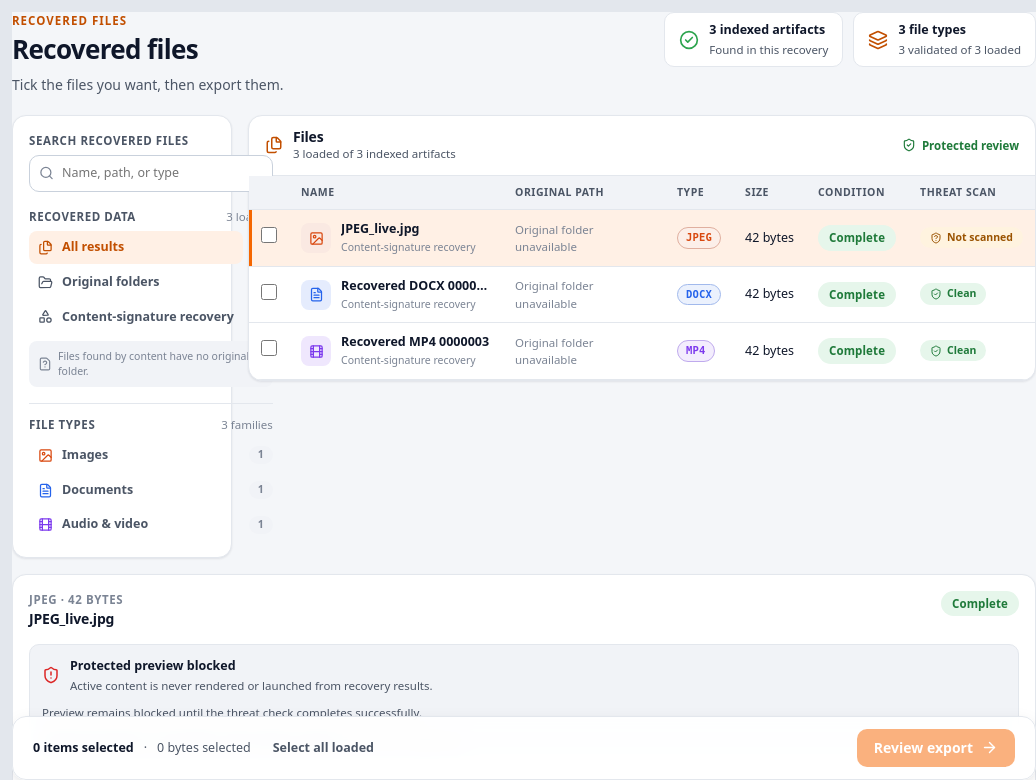
Test: live renderer pages › groups results by file type and applies the family filter through the typed artifact query
Expected: the list "Images 1 Documents 1 Audio & video 1" is shown, 29,439 -> 273,541
Click the button "Documents": (136, 490) 29,474 -> 243,506
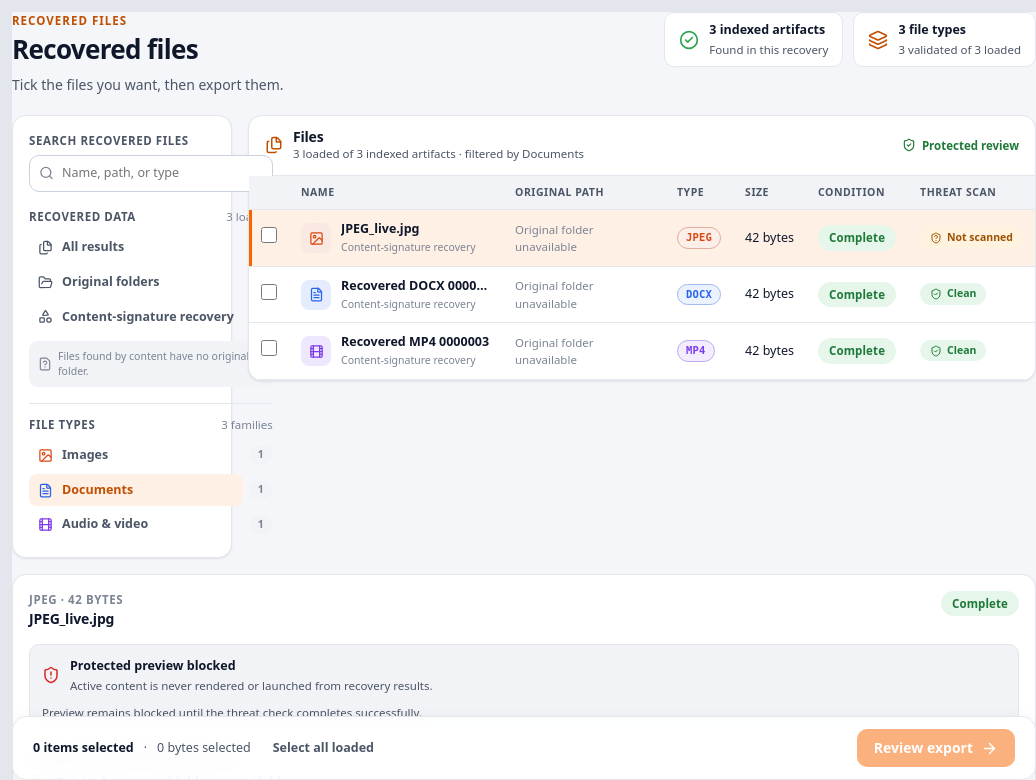
Now the text "filtered by Documents" is shown, box 456,146 -> 584,161
